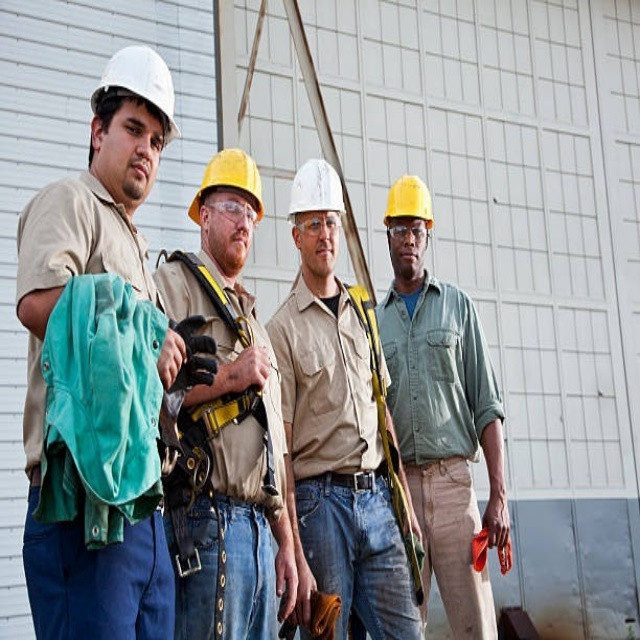Gafas: (204, 198, 255, 226), (294, 215, 343, 235), (386, 221, 432, 242)
Sin_gafas: (117, 107, 162, 154)
Sin_guantes: (273, 543, 318, 632), (481, 489, 512, 552), (235, 342, 273, 392), (159, 325, 185, 392)
Sin_mascara: (121, 157, 155, 188), (397, 246, 425, 270), (225, 231, 250, 254), (310, 242, 335, 264)
